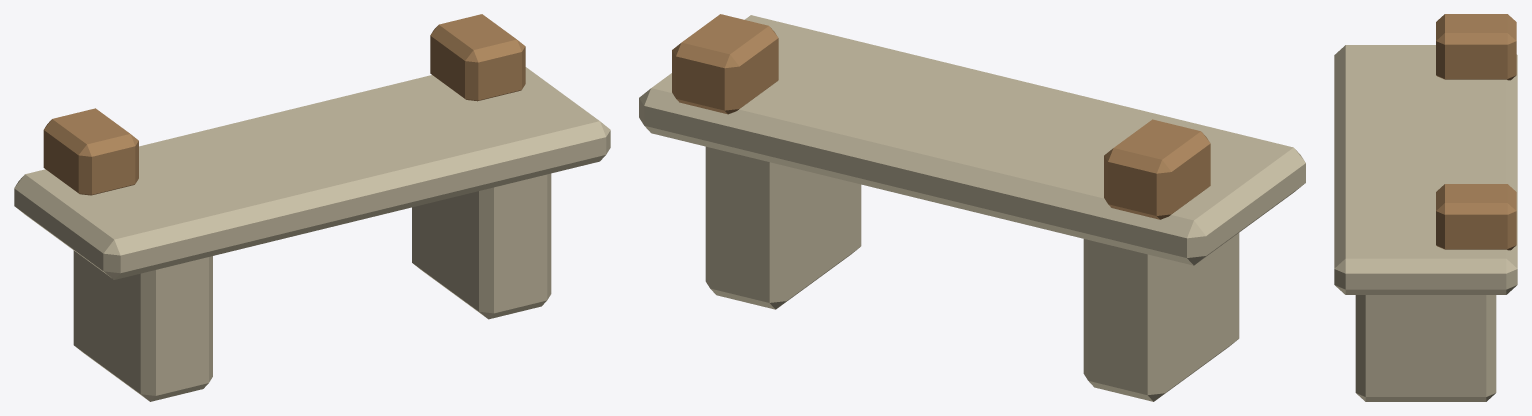
File: stone_bench.glb
The picture shows the model from 3 angles, left to right: view 1: azimuth 30°, elevation 25°; view 2: azimuth 150°, elevation 25°; view 3: azimuth 270°, elevation 25°; orthographic projection. The views are drawn at different scales.
Parts seen in each view (by area): view 1: stone_bench; view 2: stone_bench; view 3: stone_bench.
Boxes of the visible parts, bbox=[...] form: stone_bench: bbox=[14, 14, 610, 401]; stone_bench: bbox=[639, 14, 1305, 401]; stone_bench: bbox=[1334, 14, 1517, 401].
Bounding box in the file's own units: 2.1 × 0.91 × 0.73.
